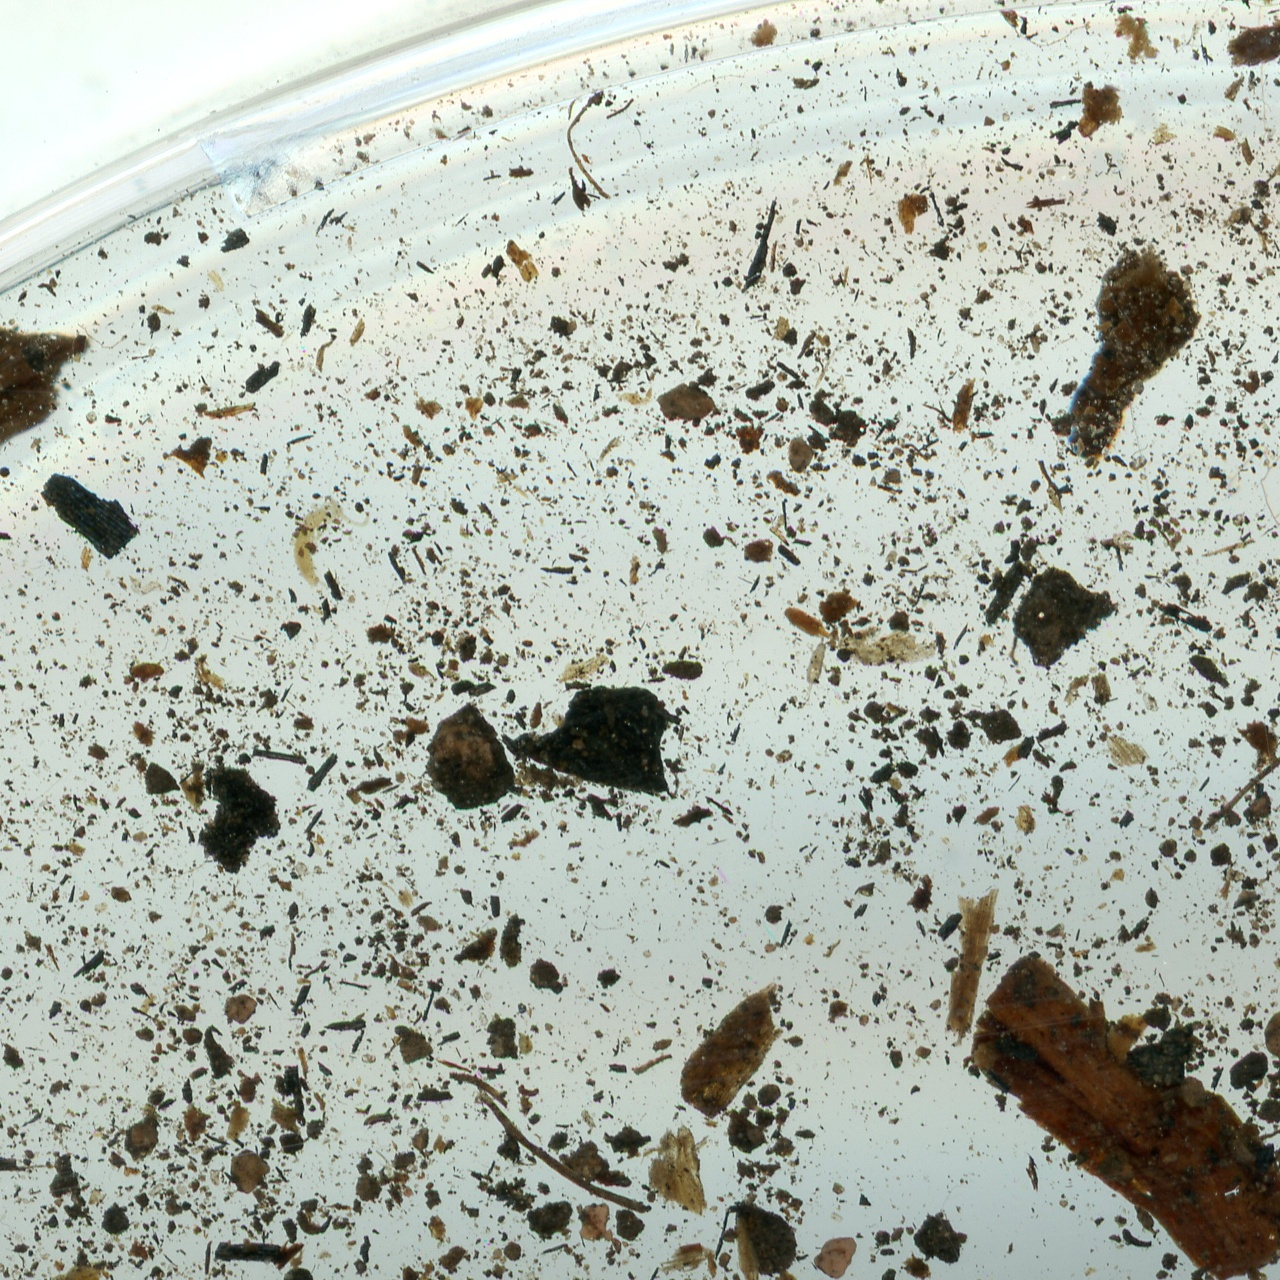arthropod: (291, 491, 373, 606), (799, 634, 833, 708)
